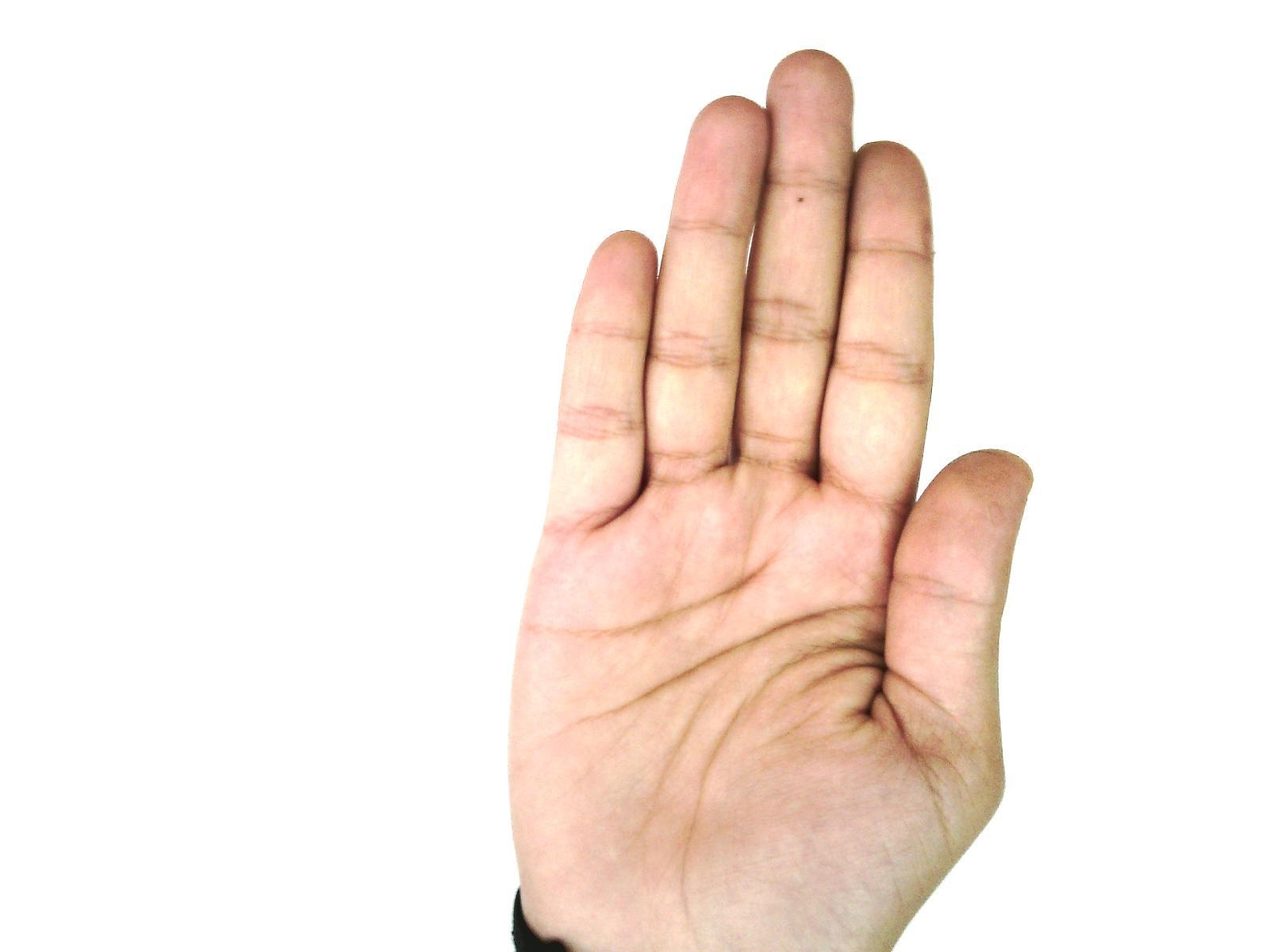open_palm: (504, 48, 1037, 951)
